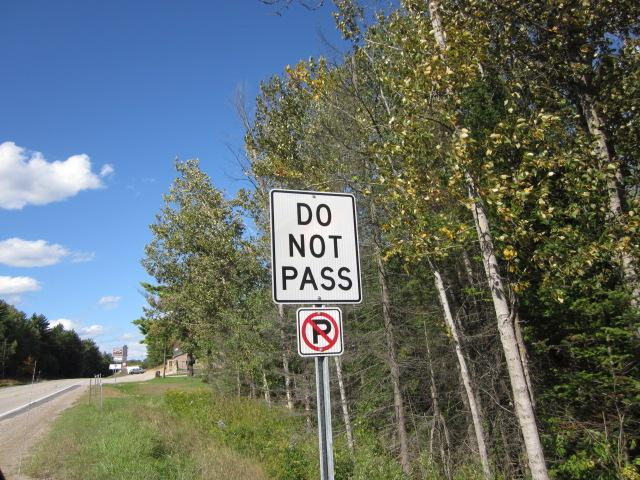regulatory: (267, 192, 366, 305), (291, 301, 354, 364)
